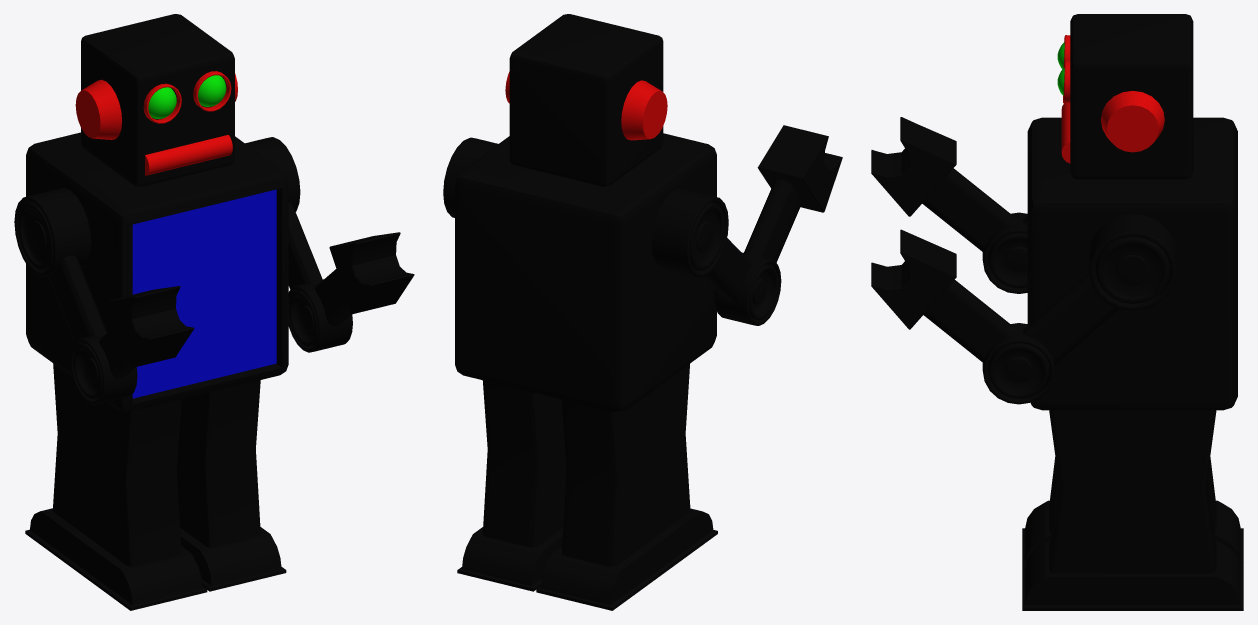
File: SM_Robot.fbx
3 renders of one model, left to right at view 1: azimuth 30°, elevation 25°; view 2: azimuth 150°, elevation 25°; view 3: azimuth 270°, elevation 25°, orthographic. The views are drawn at different scales.
Visible parts, largest first — view 1: polySurface24; view 2: polySurface24; view 3: polySurface24.
Boxes of the visible parts, left/top/right/bottom form: polySurface24: left=14, top=14, right=414, bottom=610; polySurface24: left=443, top=14, right=842, bottom=610; polySurface24: left=871, top=14, right=1243, bottom=610.
Bounding box in the file's own units: 25.47 × 46.8 × 29.53.
